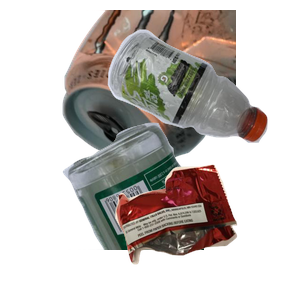glass: (60, 120, 300, 300)
metal: (60, 10, 300, 175)
plastic: (105, 27, 300, 162)
trash: (113, 162, 300, 300)
